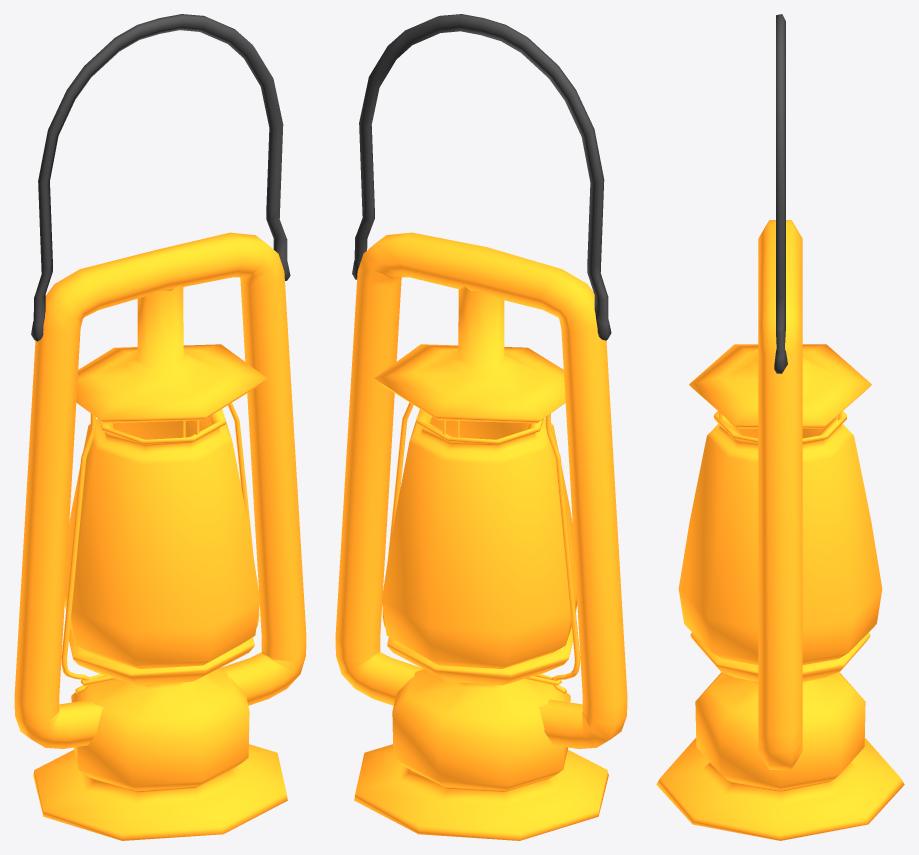
Rendered from lantern.fbx.
3 views of the same model, side by side, from view 1: azimuth 30°, elevation 25°; view 2: azimuth 150°, elevation 25°; view 3: azimuth 270°, elevation 25° (orthographic).
Visible parts, largest first — view 1: Lightsource_Lantern, Lightsource_Lantern_Handle; view 2: Lightsource_Lantern, Lightsource_Lantern_Handle; view 3: Lightsource_Lantern, Lightsource_Lantern_Handle.
Part boxes in pixels (x1,y1,x2,y2): Lightsource_Lantern: (14,232,306,840); Lightsource_Lantern_Handle: (31,14,290,341); Lightsource_Lantern: (335,232,627,840); Lightsource_Lantern_Handle: (352,14,611,340); Lightsource_Lantern: (656,220,904,840); Lightsource_Lantern_Handle: (774,14,787,373).
Size of the model in its own units: 24.11 by 63.15 by 18.76.
2 materials, 1 textured.
